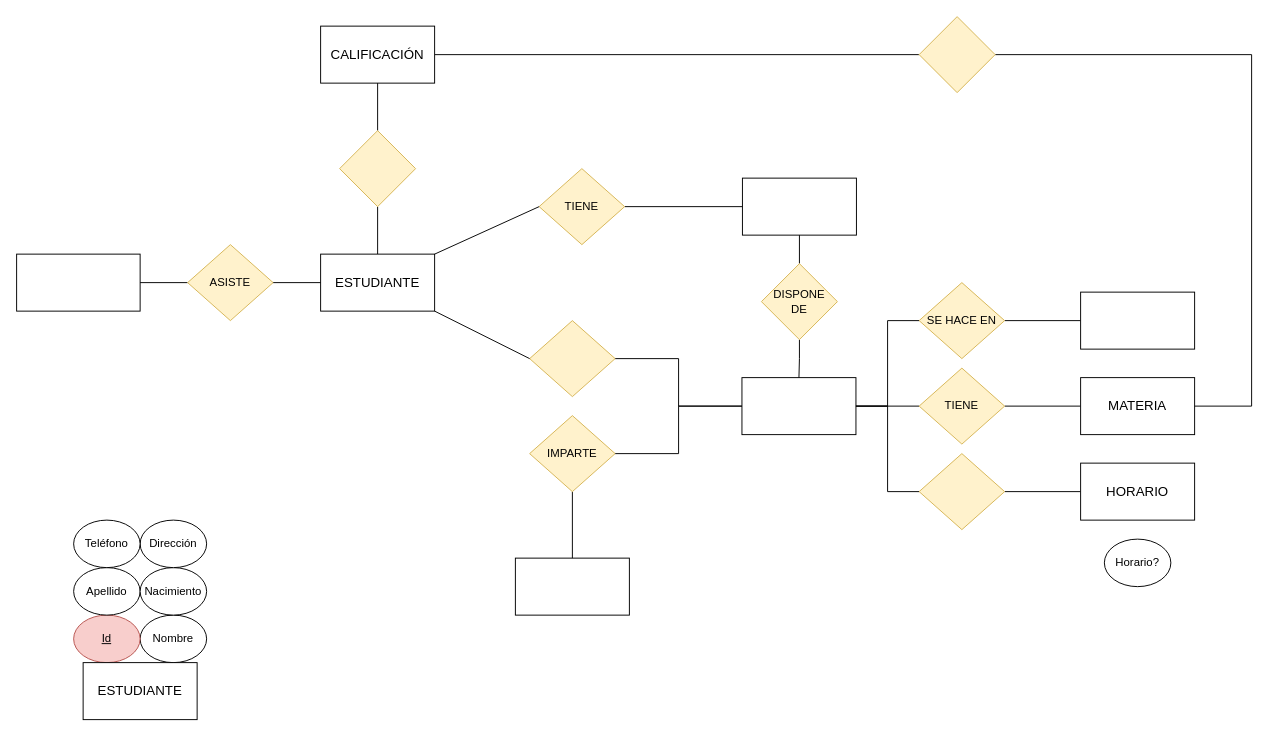
Some shapes in this 1269 by 736 pixel diagram are drawn without their labels. Here are the shapes that lost their labels. From the top down, the box of each, then its label:
(918, 16, 995, 93): PROCEDE DE
(339, 130, 416, 207): RECIBE
(741, 177, 856, 235): ASISTENCIA
(16, 253, 140, 311): ACTIVIDAD EXTRACURRICULAR
(1080, 291, 1195, 349): AULA
(529, 320, 615, 397): MATRICULA
(741, 377, 856, 435): CURSO
(918, 453, 1005, 530): POSEE
(514, 557, 629, 615): PROFESOR
